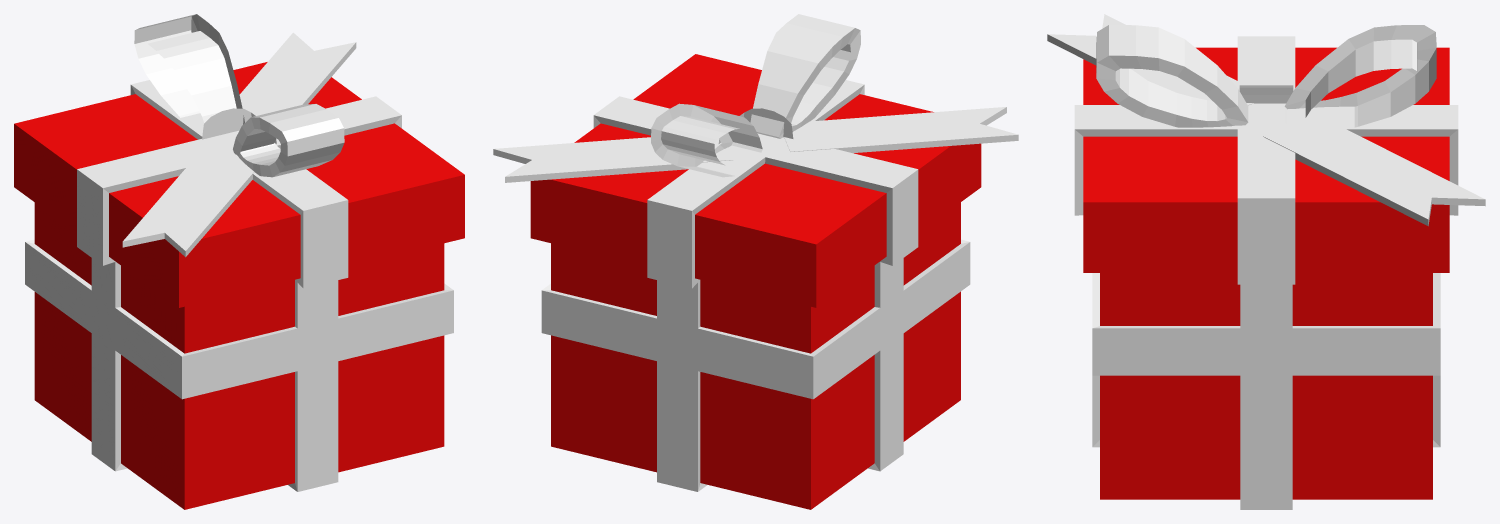
Rendered from Present.glb.
3 views of the same model, side by side, from view 1: azimuth 30°, elevation 25°; view 2: azimuth 150°, elevation 25°; view 3: azimuth 270°, elevation 25° (orthographic). The views are drawn at different scales.
Parts seen in each view (by area): view 1: Cube, Cube.001, Cylinder.002, Cube.002; view 2: Cube, Cube.001, Cylinder.002, Cube.002; view 3: Cube, Cube.001, Cylinder.002, Cube.002.
Boxes of the visible parts, box(x1,y1,x2,y2) form: Cube: box(14, 62, 464, 509); Cube.001: box(25, 80, 453, 491); Cylinder.002: box(134, 14, 344, 177); Cube.002: box(122, 32, 356, 257); Cube: box(530, 54, 981, 509); Cube.001: box(541, 80, 970, 491); Cylinder.002: box(651, 14, 860, 177); Cube.002: box(493, 107, 1018, 182); Cube: box(1083, 47, 1449, 499); Cube.001: box(1074, 36, 1458, 509); Cylinder.002: box(1096, 25, 1436, 127); Cube.002: box(1047, 14, 1485, 226).
Size of the model in its own units: 2.92 by 2.62 by 2.63.
